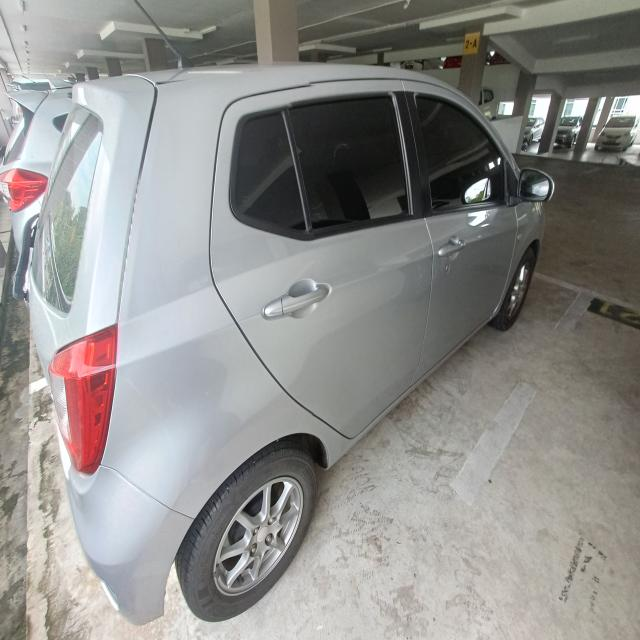PeroduaAxia: (11, 60, 555, 624)
